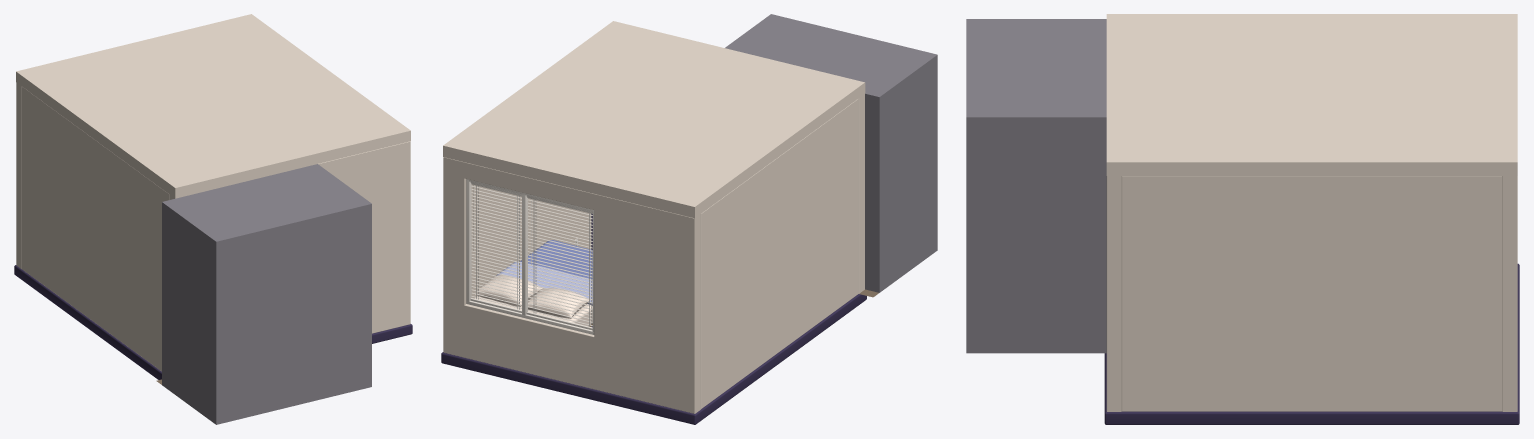
The model's file is room.glb.
The picture shows the model from 3 angles, left to right: view 1: azimuth 30°, elevation 25°; view 2: azimuth 150°, elevation 25°; view 3: azimuth 270°, elevation 25°; orthographic projection. The views are drawn at different scales.
Visible parts, largest first — view 1: B0077, B0005, B0079, B0056, B0004, B0008; view 2: B0005, B0008, B0079, B0077, B0051, B0004, O0026, O0039, O0152, B0056, O0150, O0151 (+4 smaller); view 3: B0051, B0005, B0077, B0004, B0008, B0056.
Part boxes in pixels (x1,y1,x2,y2): B0077: (162,164,371,424); B0005: (16,14,410,198); B0079: (22,86,169,371); B0056: (169,141,410,333); B0004: (14,265,412,379); B0008: (16,82,21,269); B0005: (443,21,865,218); B0008: (443,157,700,413); B0079: (701,99,858,408); B0077: (725,14,937,292); B0051: (471,184,590,298); B0004: (441,294,866,424); O0026: (527,199,592,326); O0039: (471,186,521,308); O0152: (496,240,592,305); B0056: (858,94,864,293); O0150: (528,288,590,318); O0151: (475,275,542,306); B0051: (1121,176,1502,411); B0005: (1106,14,1517,175); B0077: (966,19,1106,353); B0004: (1104,263,1519,424); B0008: (1502,176,1517,411); B0056: (1106,176,1121,411).
Size of the model in its own units: 3.72 by 2.89 by 5.52.
